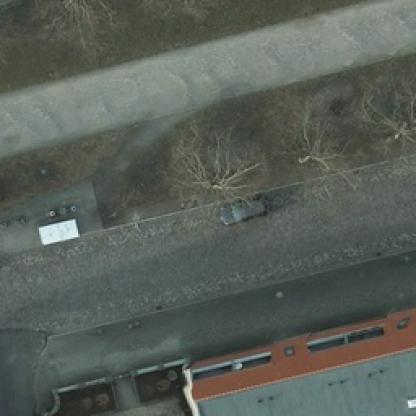car: (218, 195, 270, 226)
